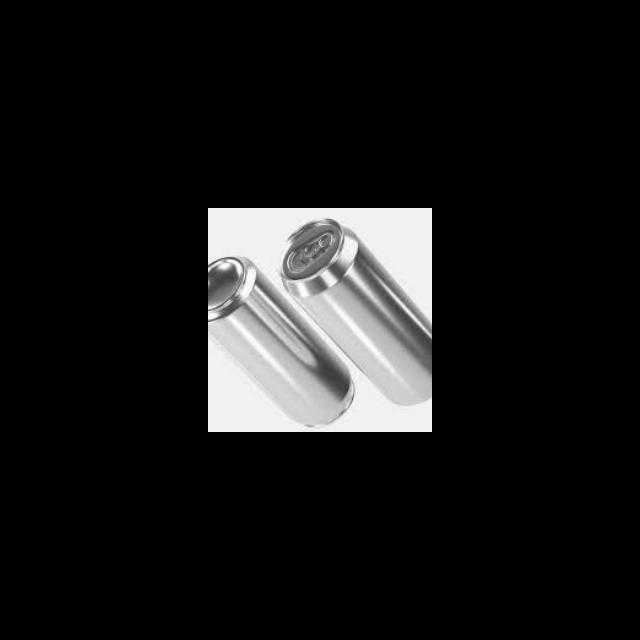metal: (271, 217, 432, 416), (208, 247, 364, 432)
